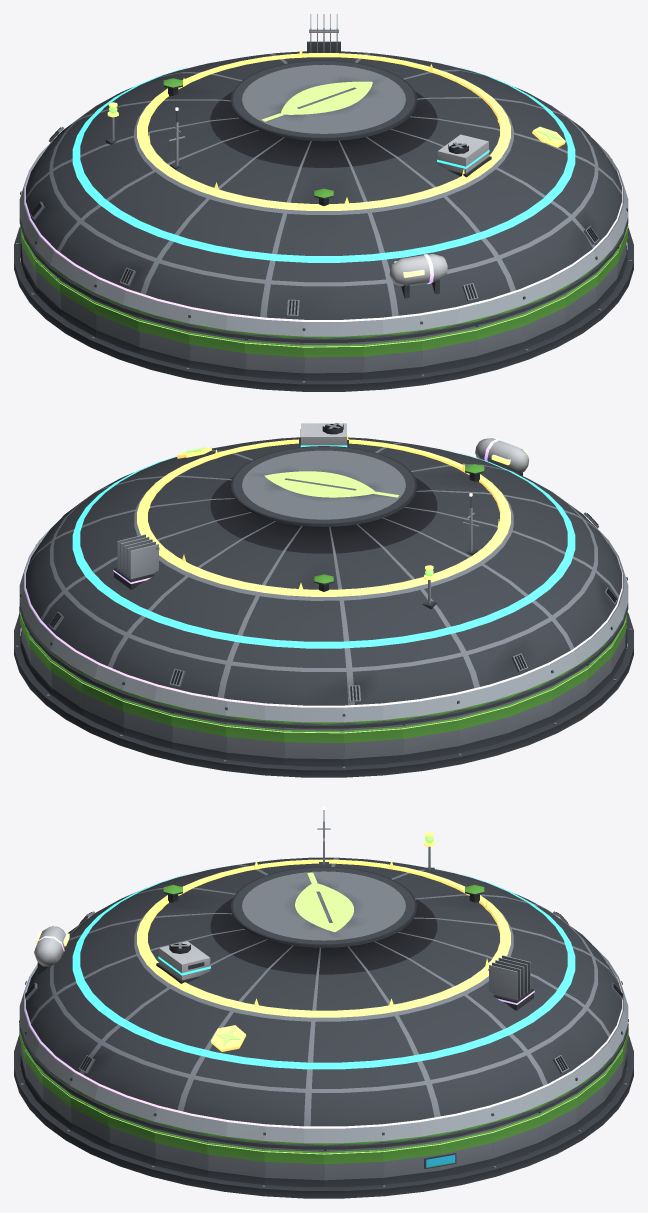
The model's file is fungus_farm_l.glb.
3 renders of one model, top to bottom at view 1: azimuth 30°, elevation 25°; view 2: azimuth 150°, elevation 25°; view 3: azimuth 270°, elevation 25°, orthographic.
Parts seen in each view (by area): view 1: Roof, Base, L3, L5, L4, Wall_21, Wall_20, Wall_22, Wall_19, Wall_23, Wall_18, Wall_24 (+16 smaller); view 2: Roof, Base, L3, L5, L4, Wall_10, Wall_11, Wall_09, Wall_12, Wall_08, Wall_13, Wall_07 (+17 smaller); view 3: Roof, Base, L3, L5, L4, Wall_00, Wall_31, Wall_30, Wall_01, Wall_29, Wall_02, Wall_28 (+17 smaller).
Part boxes in pixels (x1,y1,x2,y2): Roof: (19,51,628,342); Base: (14,227,633,391); L3: (72,61,575,262); L5: (106,49,565,210); L4: (307,14,447,298); Wall_21: (304,342,363,380); Wall_20: (245,338,303,380); Wall_22: (363,336,421,379); Wall_19: (189,330,245,375); Wall_23: (421,326,476,373); Wall_18: (138,316,189,367); Wall_24: (475,312,524,363); Roof: (19,437,628,728); Base: (14,612,633,777); L3: (72,423,575,648); L5: (137,435,510,609); L4: (113,438,529,589); Wall_10: (284,727,343,766); Wall_11: (344,724,402,766); Wall_09: (226,722,284,764); Wall_12: (402,716,458,761); Wall_08: (171,711,226,759); Wall_13: (458,702,509,753); Wall_07: (123,697,172,748); Roof: (19,857,628,1149); Base: (14,1035,633,1198); L3: (72,868,575,1069); L5: (137,831,510,1051); L4: (34,926,534,1010); Wall_00: (324,1147,383,1186); Wall_31: (264,1147,323,1186); Wall_30: (207,1140,264,1184); Wall_01: (383,1140,440,1184); Wall_29: (154,1128,207,1177); Wall_02: (440,1128,493,1177); Wall_28: (108,1111,155,1165).
Bounding box in the file's own units: 18.96 × 6.37 × 18.96.
